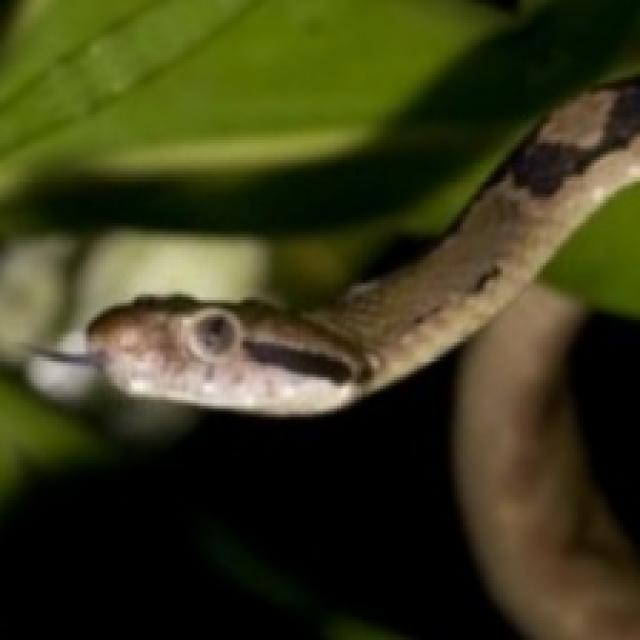dog-toothed cat snake: (37, 83, 637, 414)
